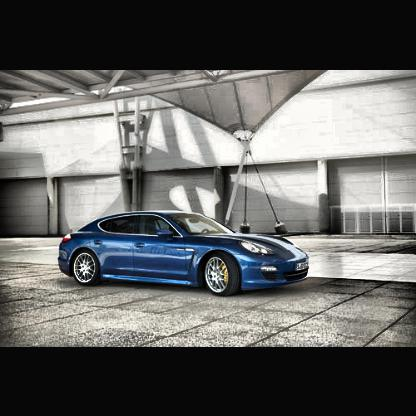Porsche Panamera Sedan 2012: (59, 212, 311, 298)
